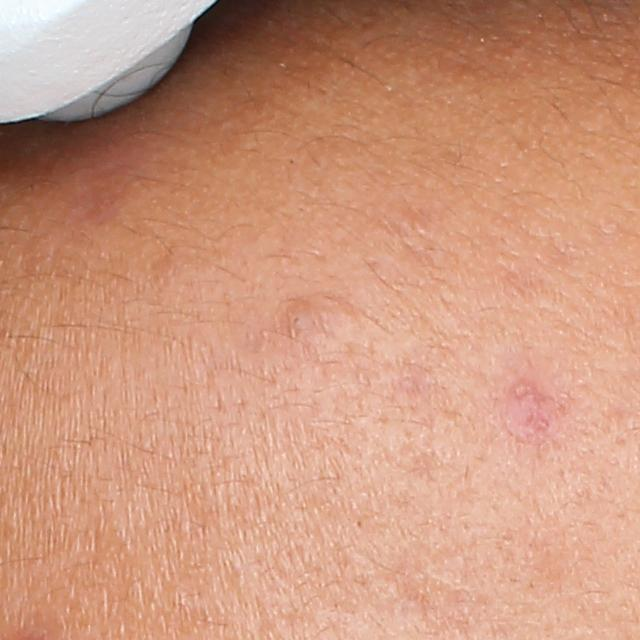comedo: (286, 309, 314, 332)
papule: (488, 373, 556, 443)
